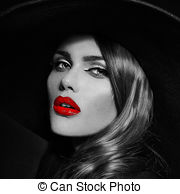face: (31, 18, 144, 155)
